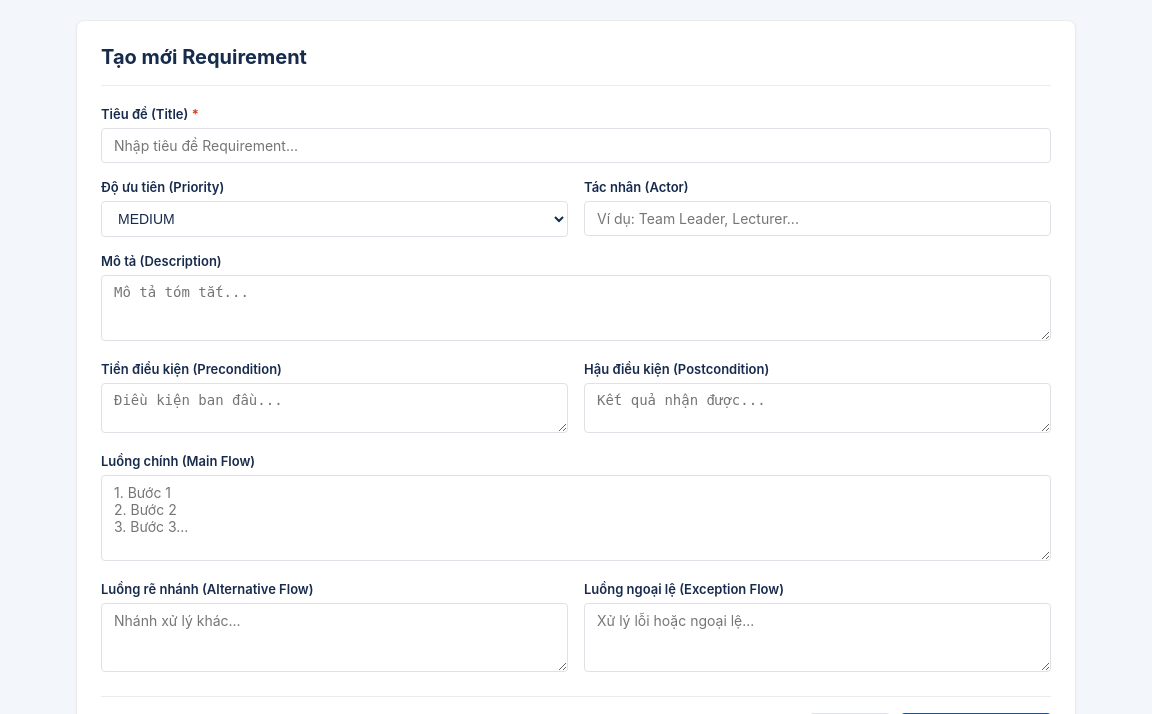
it: CNPM-64: Comprehensive RequirementForm Acceptance & Edge Cases Tests › 7. Chống gửi hai lần (Double Submit)
The image size is (1152, 714).
Type "Test Double" into the field labelled "Tiêu đề (Title) *" at (576, 146), box top-left (101, 128), bottom-right (1051, 163)
(page scrolled)
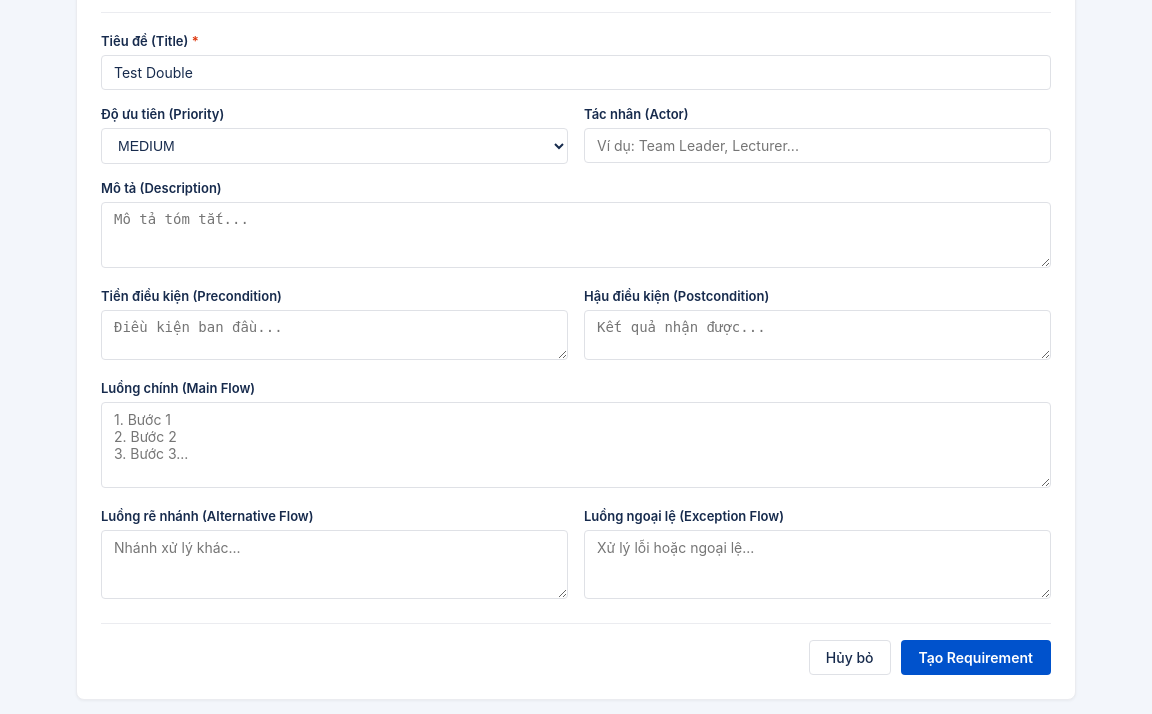
Click the button "Tạo Requirement" at (976, 658), box top-left (901, 640), bottom-right (1051, 675)
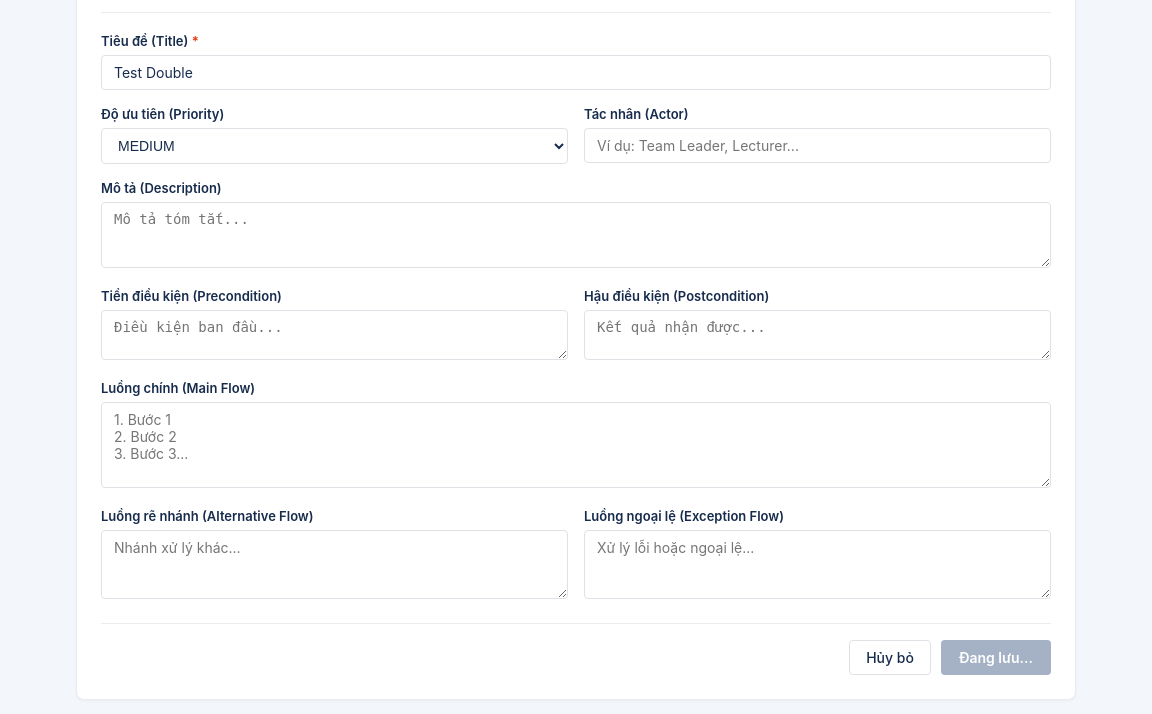
Now the button named "Tạo Requirement" is disabled
Now the button named "Tạo Requirement" reads "Đang lưu..."
Click the button named "Tạo Requirement" at (996, 658), box top-left (941, 640), bottom-right (1051, 675)
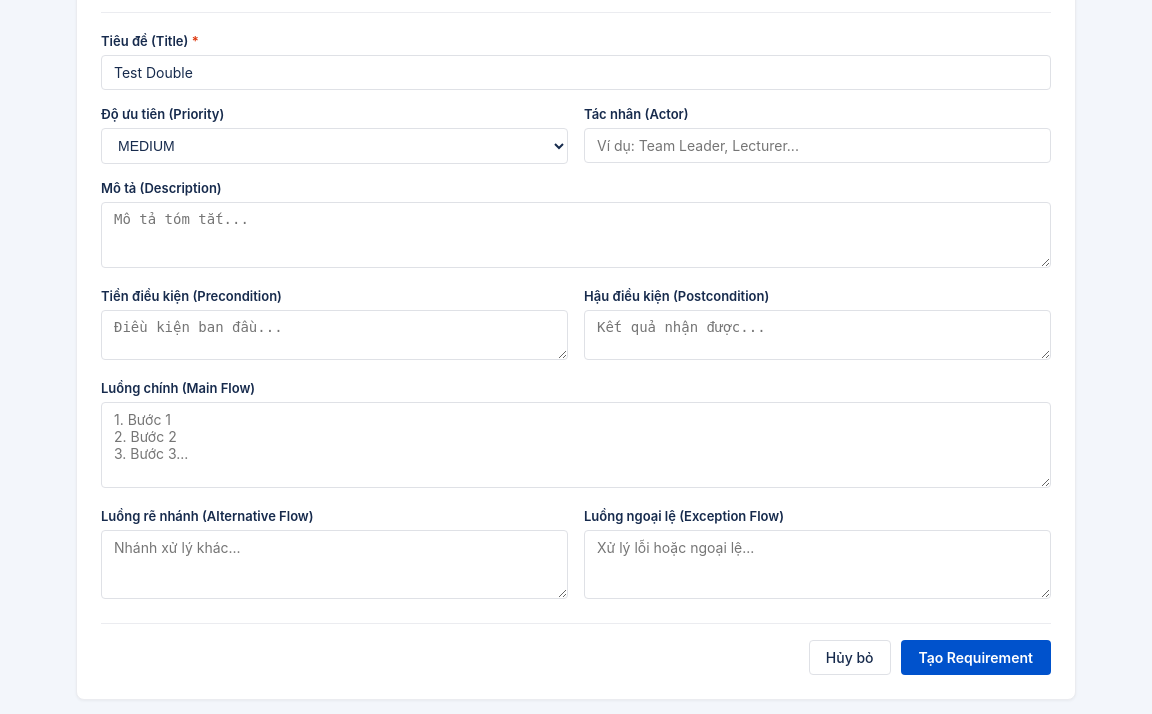
Now the button "Tạo Requirement" is enabled, box top-left (901, 640), bottom-right (1051, 675)
